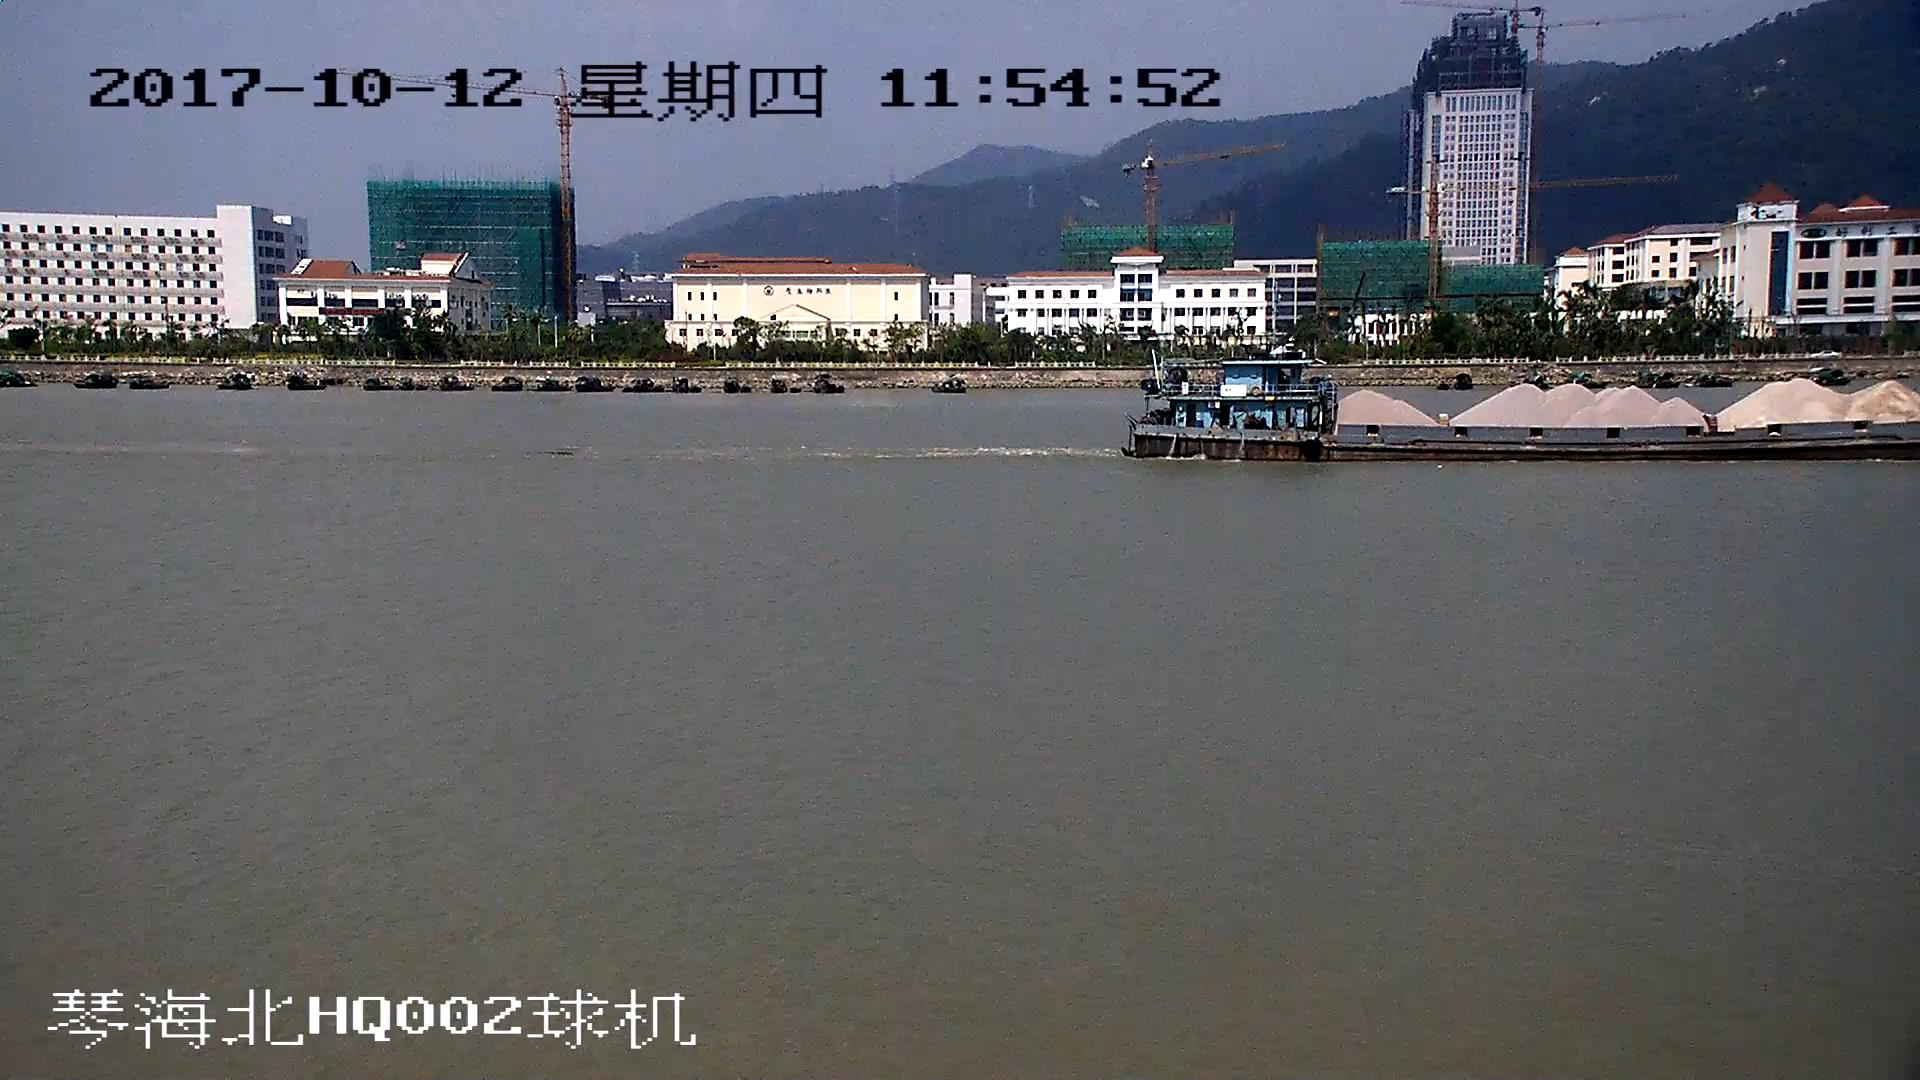ore carrier: (1125, 355, 1920, 464)
